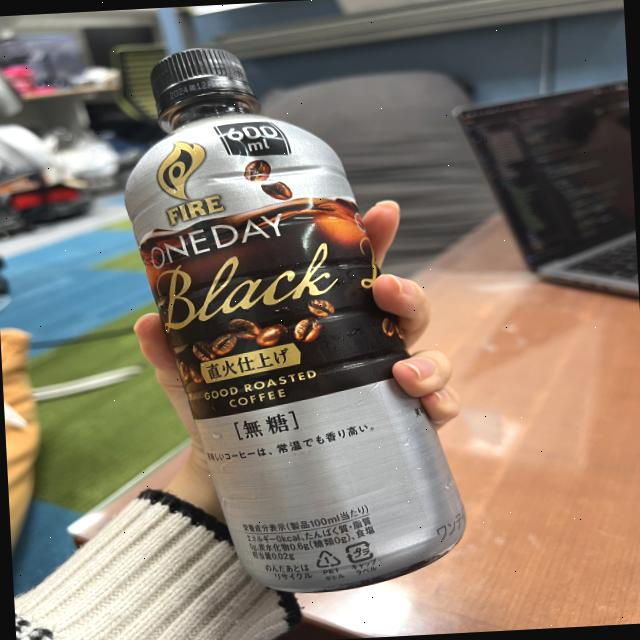coffee-black: (114, 28, 423, 601)
